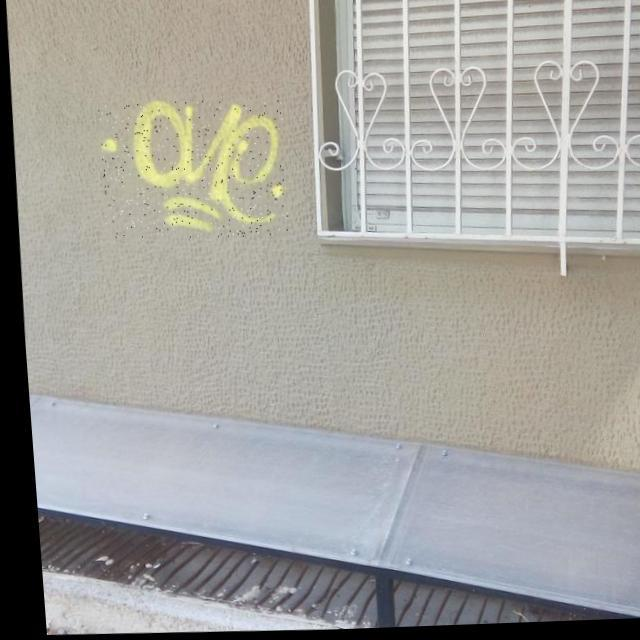-: (94, 99, 286, 242)
